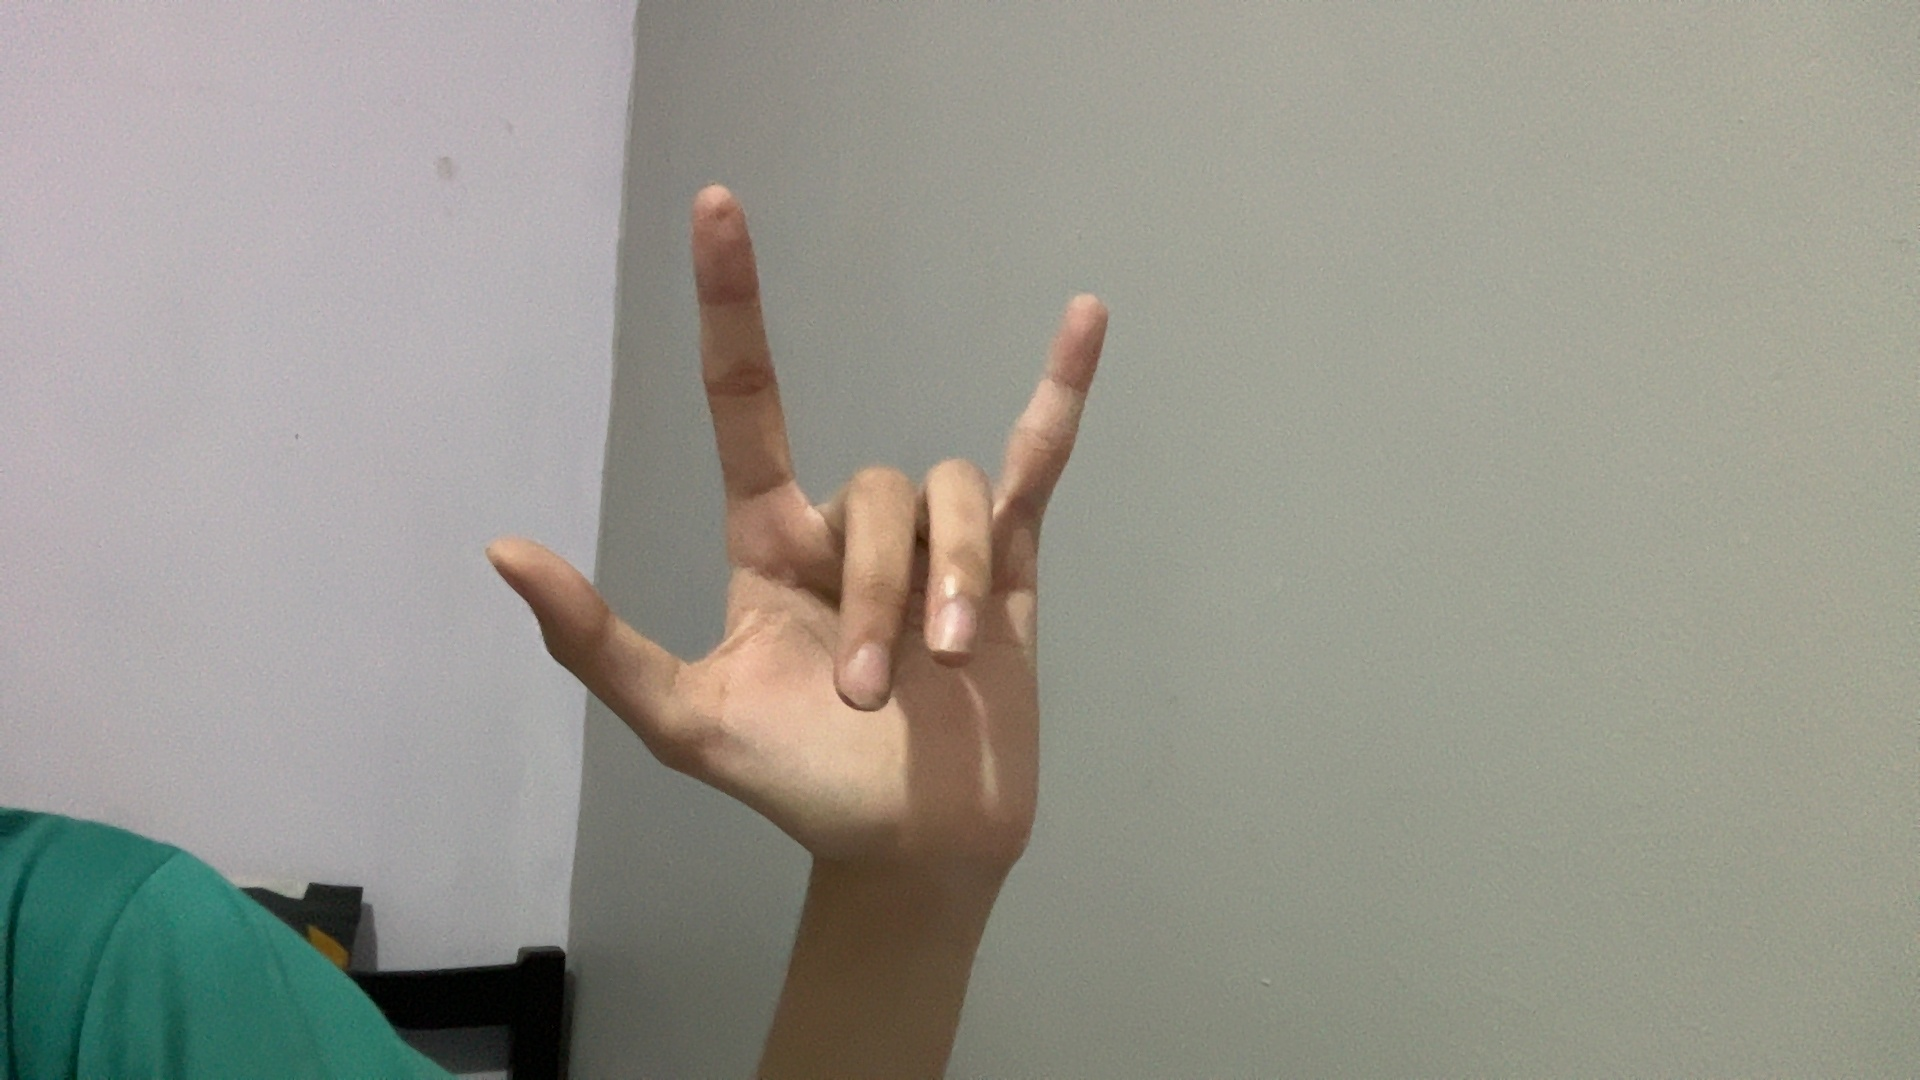I Love You: (363, 136, 1286, 920)
